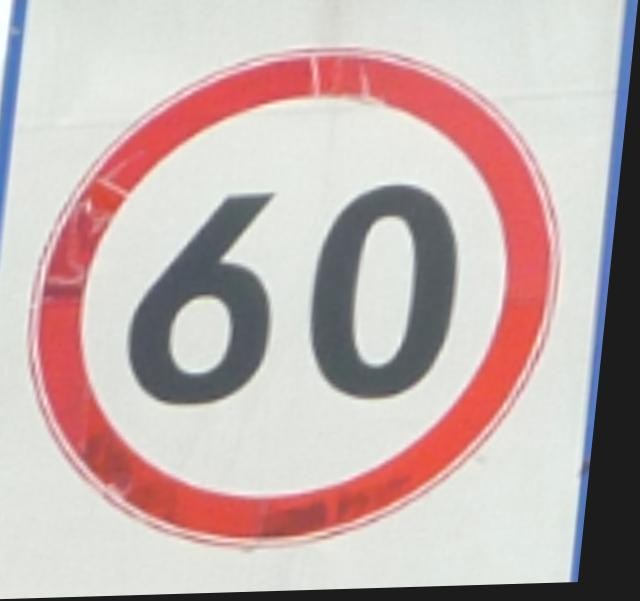limit60: (0, 30, 613, 561)
